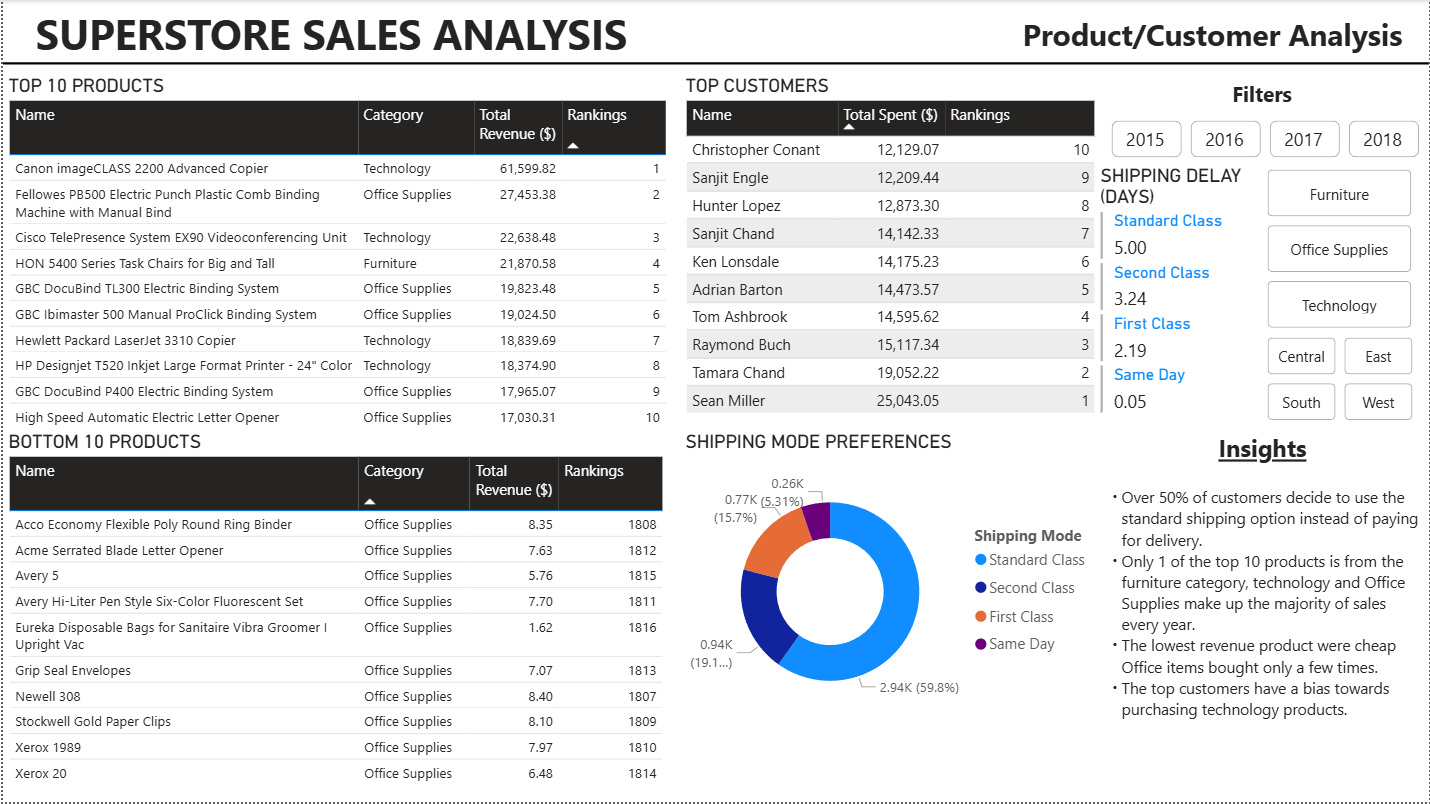

The dashboard page shown, as its layout file describes it:
{"tool":"powerbi","page":{"name":"Product/Cusomter Analysis","canvas":[1280,720],"ordinal":1},"visuals":[{"type":"advancedSlicerVisual","fields":{"Values":["public orders.Order Year"]},"box":[990.2,103.2,290,44],"z":0},{"type":"textbox","box":[24.2,0,544.9,98.8],"z":1000},{"type":"shape","box":[0,40,1280,33],"z":2000},{"type":"textbox","box":[1095.3,66.4,70,36.8],"z":3000},{"type":"advancedSlicerVisual","fields":{"Values":["public orders.region"]},"box":[1130,298,140,84],"z":4000},{"type":"advancedSlicerVisual","fields":{"Values":["public product.category"]},"box":[1130.3,147.2,139.2,154.4],"z":5000},{"type":"textbox","box":[981.2,431.8,298.1,225.3],"z":6000},{"type":"textbox","box":[1073.8,382.8,113.9,47],"z":7000},{"type":"tableEx","title":"TOP CUSTOMERS","fields":{"Values":["public customers.name","Sum(public order_items.sales)","public order_items.TOP CUSTOMERS"]},"box":[607.8,66.4,382.4,319.6],"z":8000},{"type":"tableEx","title":"TOP 10 PRODUCTS","fields":{"Values":["public product.product_name","public product.category","Sum(public order_items.sales)","public customers.TOP PRODUCTS BY SALES"]},"box":[0,66.4,607.8,331.3],"z":9000},{"type":"tableEx","title":"BOTTOM 10 PRODUCTS","fields":{"Values":["public product.product_name","public product.category","Sum(public order_items.sales)","public customers.TOP PRODUCTS BY SALES"]},"box":[0,386,607.8,333.1],"z":10000},{"type":"donutChart","title":"SHIPPING MODE PREFERENCES","fields":{"Y":["CountNonNull(public orders.order_id)"],"Category":["public orders.ship_mode"]},"box":[607.8,386,382.4,271.1],"z":11000},{"type":"multiRowCard","title":"SHIPPING DELAY (DAYS)","fields":{"Values":["public customers.SHIPPING DELAY","public orders.ship_mode"]},"box":[980.3,147.2,153.5,234.3],"z":12000},{"type":"textbox","box":[910.3,7.2,369.9,49.4],"z":13000}]}

Visuals, with their boxes in screenshot pixels (x1, y1, x2, y2), scaled from the page's 1280x720 canvas onto the 1430x804 screenshot:
advancedSlicerVisual - public orders.Order Year: <bbox>1106, 115, 1429, 164</bbox>
textbox: <bbox>27, 0, 636, 110</bbox>
shape: <bbox>0, 45, 1429, 82</bbox>
textbox: <bbox>1224, 74, 1302, 115</bbox>
advancedSlicerVisual - public orders.region: <bbox>1262, 333, 1419, 427</bbox>
advancedSlicerVisual - public product.category: <bbox>1263, 164, 1418, 337</bbox>
textbox: <bbox>1096, 482, 1429, 734</bbox>
textbox: <bbox>1200, 427, 1327, 480</bbox>
"TOP CUSTOMERS" tableEx: <bbox>679, 74, 1106, 431</bbox>
"TOP 10 PRODUCTS" tableEx: <bbox>0, 74, 679, 444</bbox>
"BOTTOM 10 PRODUCTS" tableEx: <bbox>0, 431, 679, 803</bbox>
"SHIPPING MODE PREFERENCES" donutChart: <bbox>679, 431, 1106, 734</bbox>
"SHIPPING DELAY (DAYS)" multiRowCard: <bbox>1095, 164, 1267, 426</bbox>
textbox: <bbox>1017, 8, 1429, 63</bbox>
